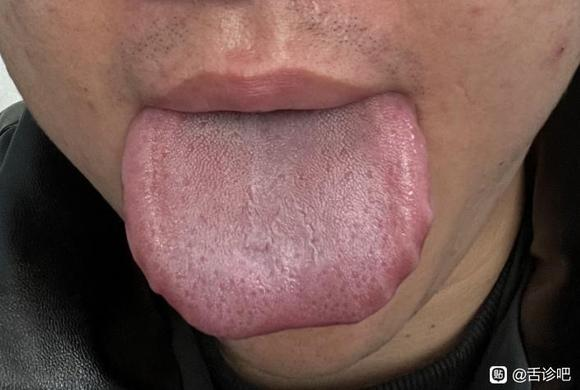baitaishe: (123, 91, 434, 338)
hongshe: (123, 91, 434, 338)
pangdashe: (123, 91, 434, 338)
